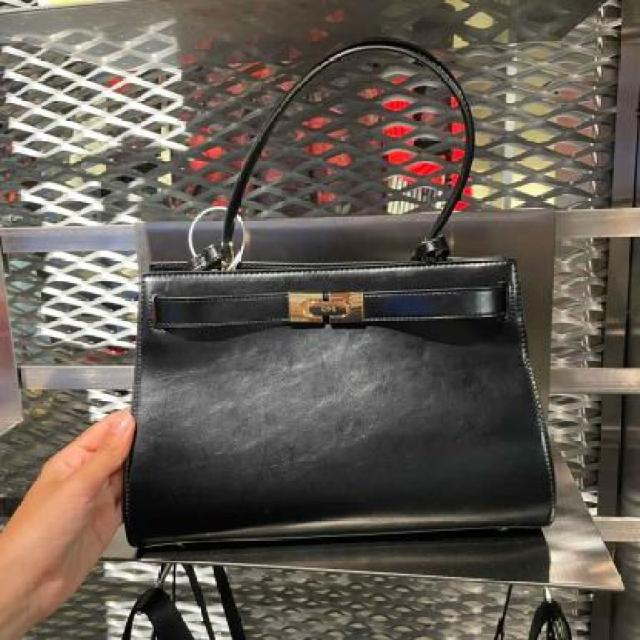Bag: (116, 38, 578, 560)
